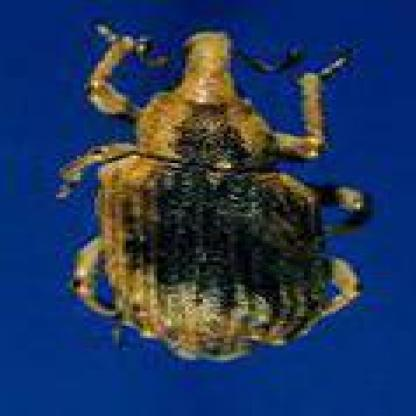rice-bug: (63, 22, 378, 367)
